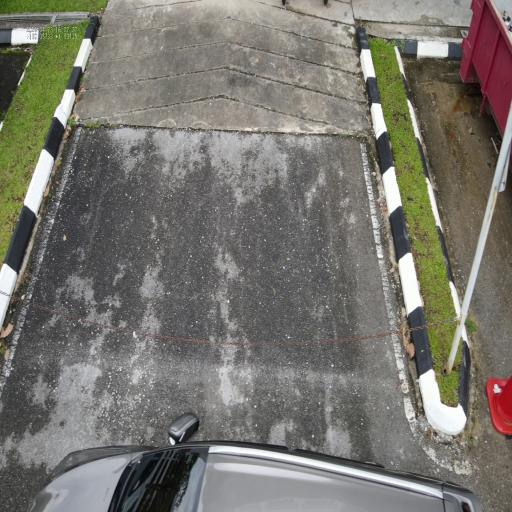Illegal: (21, 411, 486, 512)
